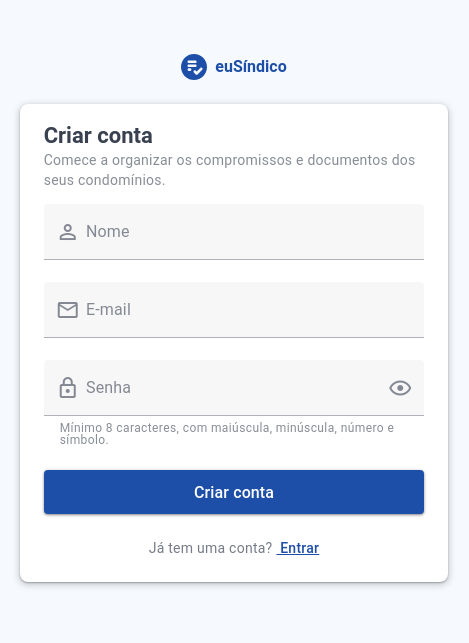
Test: Registrar › exibe mensagem genérica em erro inesperado (não-409, ex: 500)
This screenshot has width=469, height=643.
Type "João da Silva" into the element with test id "nome".
click(235, 243); type("João da Silva")  # box left=44, top=204, right=425, bottom=282
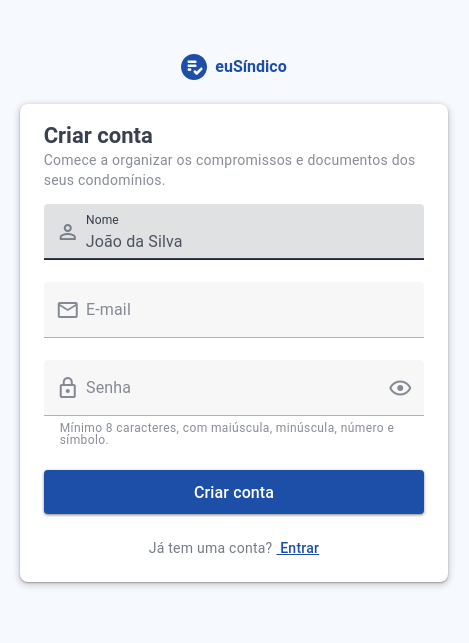
Type "sindico@exemplo.com" into the element with test id "email".
click(235, 321); type("sindico@exemplo.com")  # box left=44, top=282, right=425, bottom=360
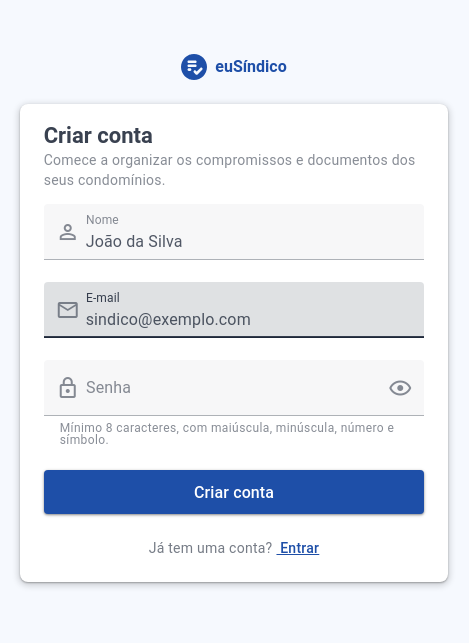
Type "SenhaForte1!" into the element with test id "senha".
click(235, 403); type("SenhaForte1!")  # box left=44, top=360, right=425, bottom=446
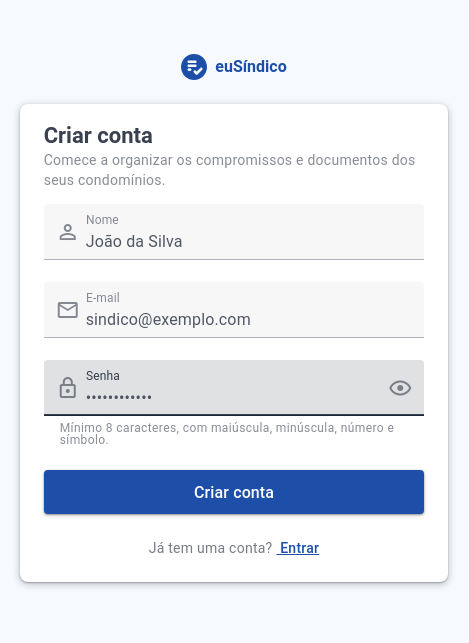
Click the button with test id "btn-registrar".
click(235, 492)  # box left=44, top=470, right=425, bottom=514
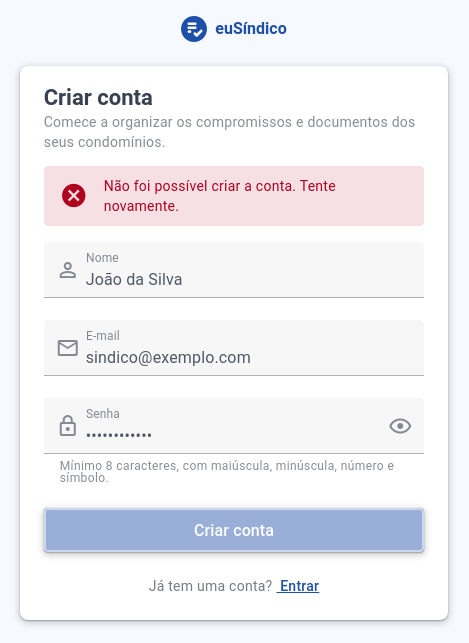
Check: the message "Não foi possível criar a conta. Tente novamente." is shown, box left=44, top=166, right=424, bottom=226
Check: the text with test id "erro-registrar" shows "Não foi possível criar a conta", box left=104, top=178, right=336, bottom=214
